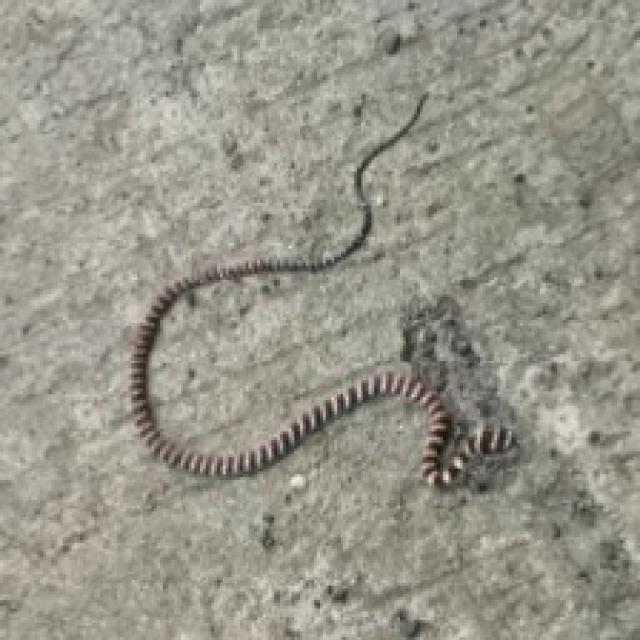paradise tree snake: (129, 94, 511, 486)
